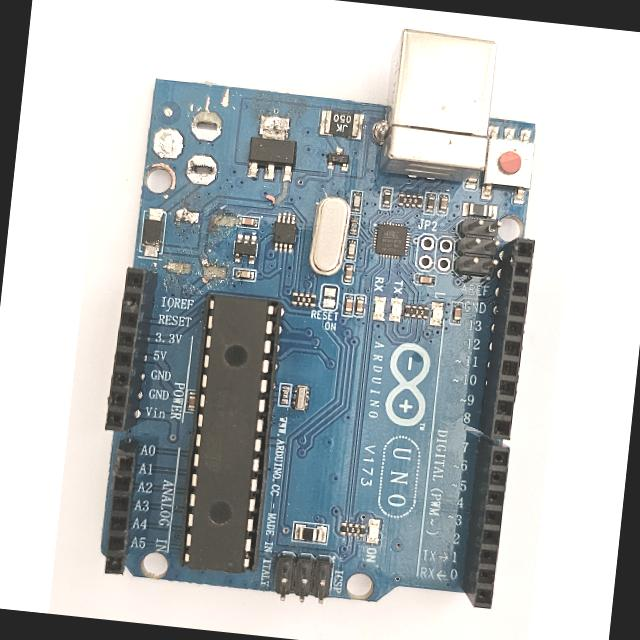missing_capacitors: (162, 201, 240, 286)
missing_eps: (159, 80, 252, 201)
